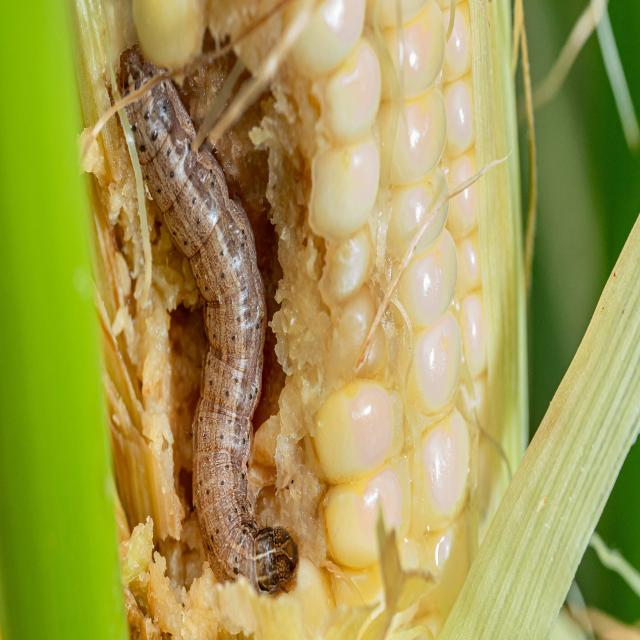-: (113, 53, 295, 601)
